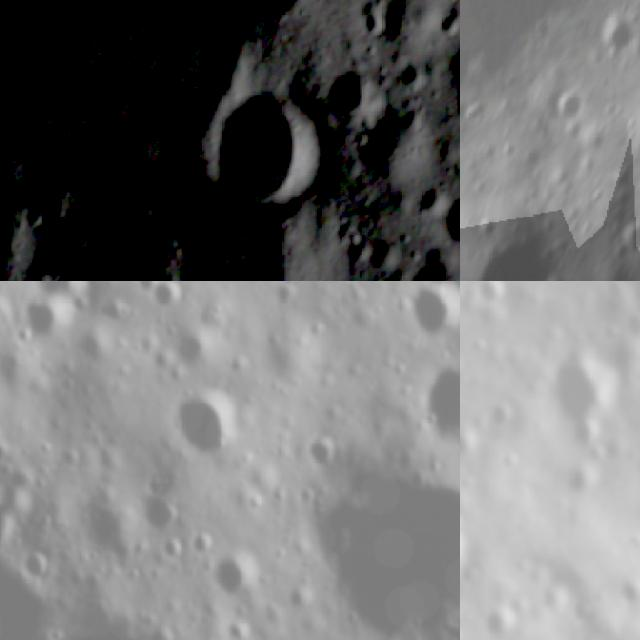crater: (0, 0, 346, 159), (305, 457, 460, 634), (196, 69, 330, 216), (176, 207, 303, 281), (549, 349, 621, 436), (461, 215, 555, 281), (168, 392, 236, 461), (326, 54, 389, 125), (396, 281, 460, 343), (413, 358, 460, 440), (135, 478, 180, 534), (23, 290, 65, 350), (596, 7, 640, 61), (210, 550, 258, 596), (460, 496, 481, 593), (472, 601, 523, 640), (299, 427, 341, 472), (551, 455, 599, 494), (18, 544, 58, 588), (551, 85, 594, 122), (556, 588, 600, 624), (463, 281, 512, 309), (179, 330, 210, 372), (357, 0, 391, 36), (11, 255, 57, 281), (484, 394, 518, 429), (624, 100, 640, 173), (147, 281, 184, 312), (441, 187, 460, 247), (613, 216, 640, 256), (0, 482, 15, 551), (188, 528, 224, 554), (617, 301, 640, 340), (165, 528, 189, 561), (619, 569, 640, 606), (445, 74, 460, 122), (460, 422, 475, 460), (35, 281, 76, 293), (631, 445, 640, 490)
